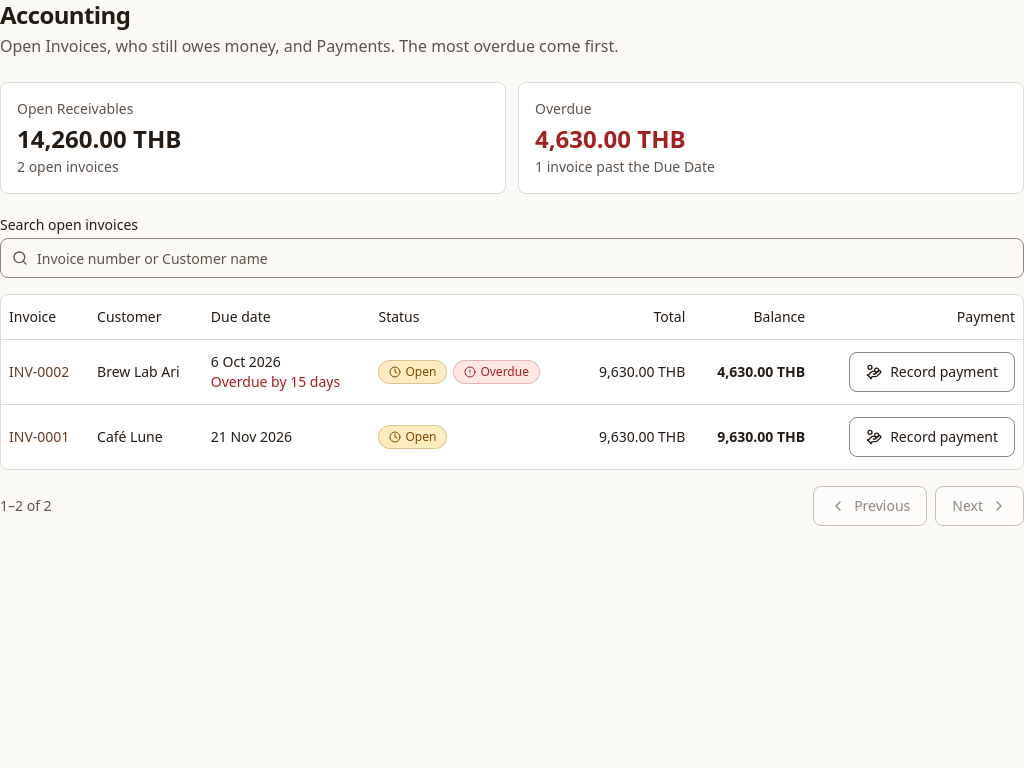
Record payment (US-4) › records the full Balance with one POST, closes, and refreshes receivables, Invoices and the Dashboard
Click the button with aria-label "Record payment for INV-0001": (932, 436) [849,416,1015,456]
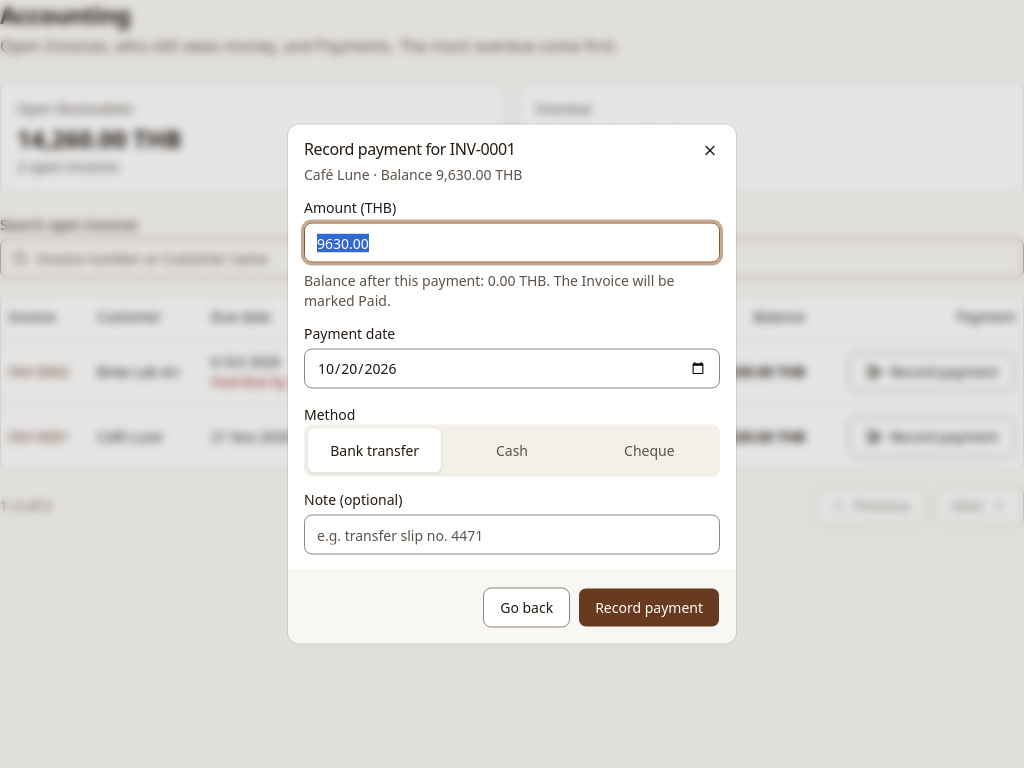
Click the button "Record payment": (649, 608) [578,588,720,628]
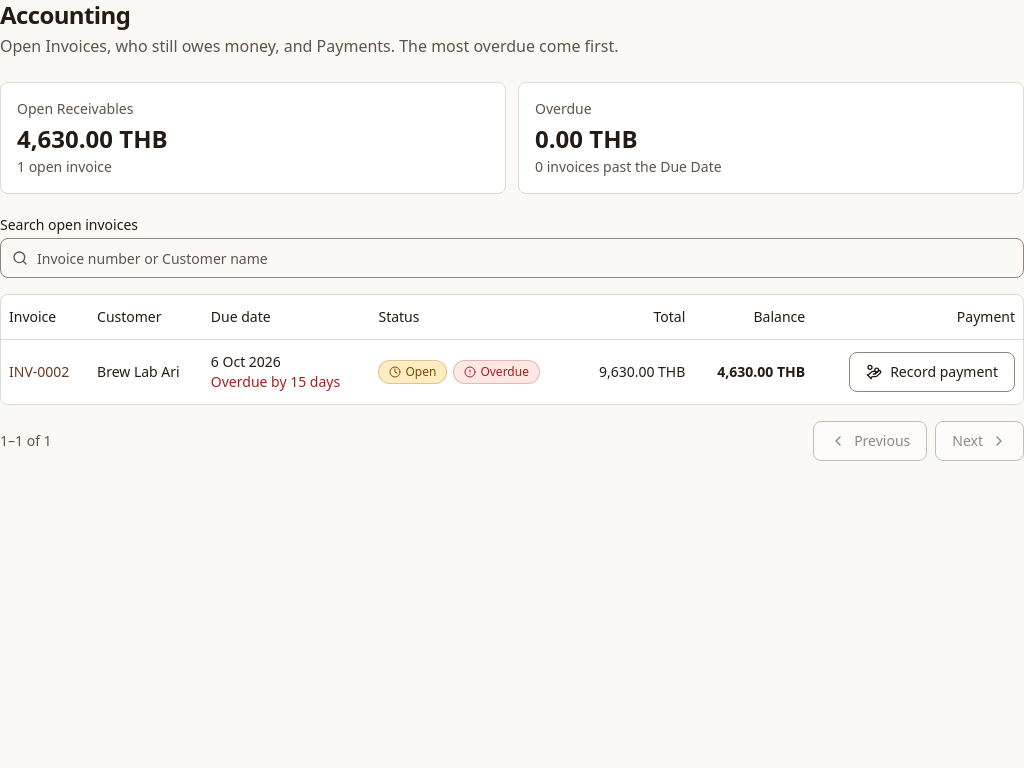
Expected: the dialog is gone
Expected: the link "INV-0001" is gone
